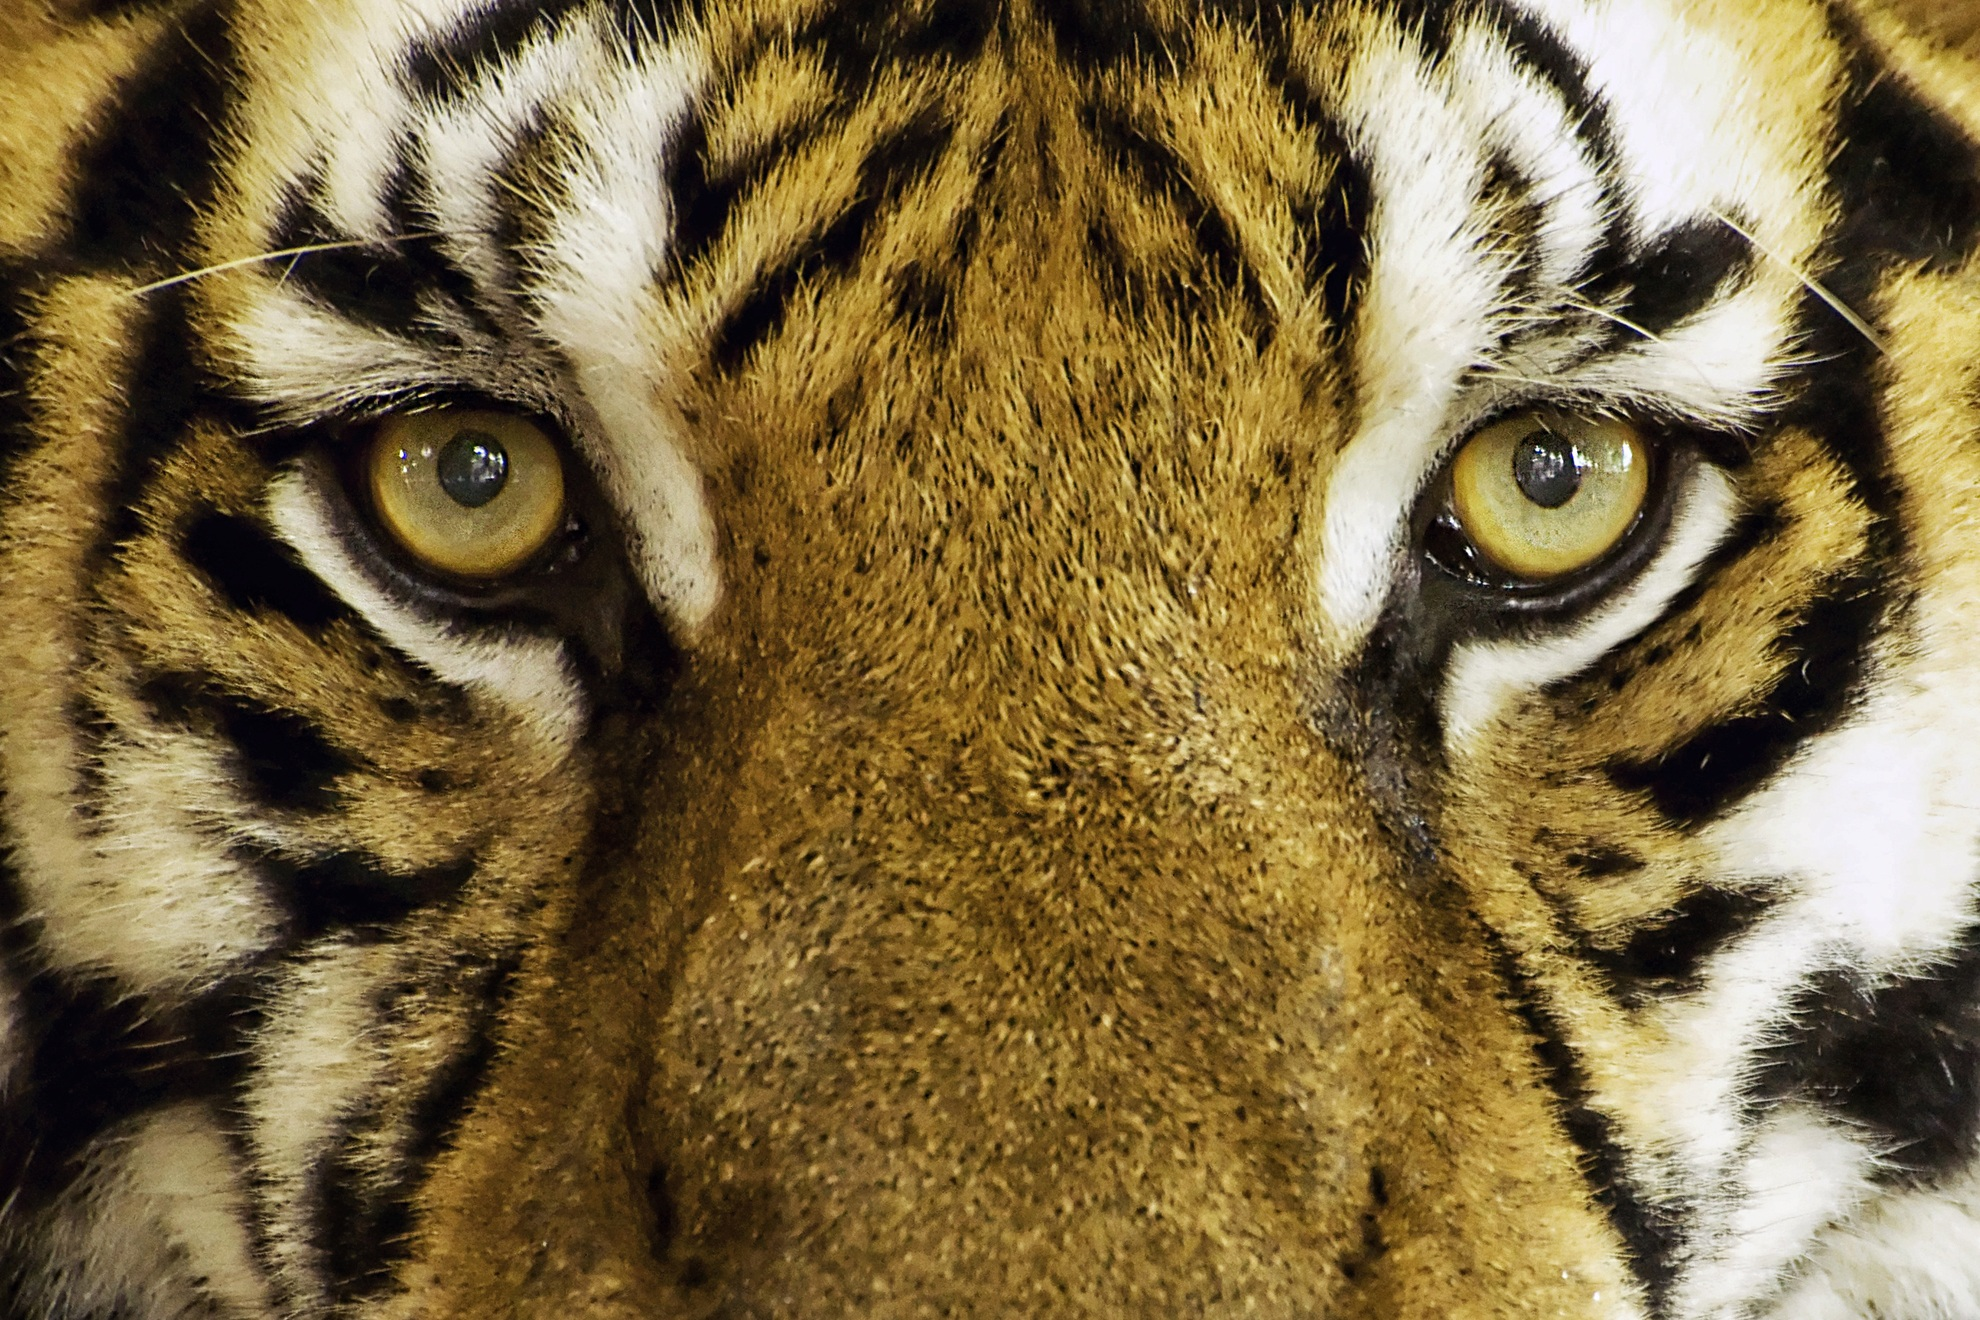tiger: (85, 37, 1956, 1282)
